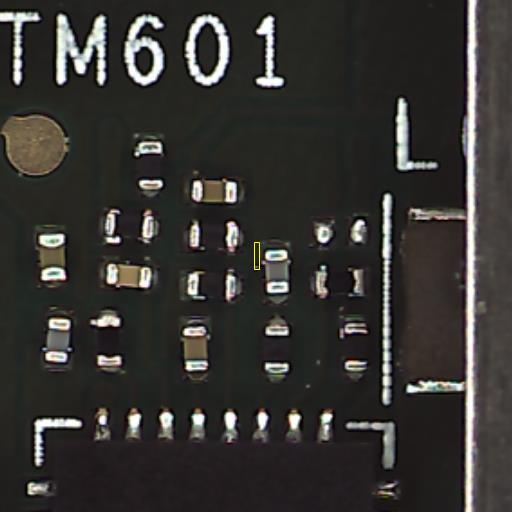bottom_layer: (133, 133, 166, 196), (34, 225, 66, 287), (181, 316, 210, 381), (98, 261, 159, 291), (43, 309, 72, 372), (95, 308, 123, 372), (343, 316, 370, 380), (181, 222, 242, 250), (181, 272, 241, 300), (264, 319, 290, 382), (263, 240, 289, 303), (185, 178, 244, 204)
top_layer: (38, 233, 65, 281), (137, 140, 163, 189), (188, 223, 238, 248), (96, 316, 121, 365), (188, 272, 235, 297), (44, 317, 69, 362), (182, 326, 207, 371), (105, 263, 153, 286), (345, 323, 368, 370), (265, 327, 289, 372), (191, 179, 237, 202), (265, 249, 288, 293)
